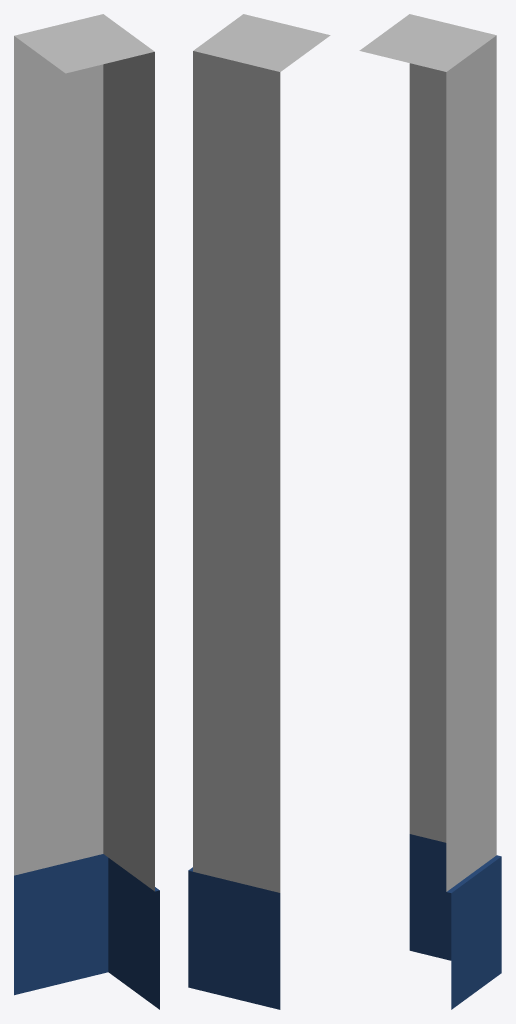
File: Parede_Quina.fbx
The picture shows the model from 3 angles, left to right: view 1: azimuth 30°, elevation 25°; view 2: azimuth 150°, elevation 25°; view 3: azimuth 330°, elevation 25°; orthographic projection. The views are drawn at different scales.
Parts seen in each view (by area): view 1: Cubo.370; view 2: Cubo.370; view 3: Cubo.370.
Part boxes in pixels (bbox=[...]): Cubo.370: bbox=[14, 14, 159, 1009]; Cubo.370: bbox=[188, 14, 330, 1009]; Cubo.370: bbox=[359, 14, 501, 1009].
Size of the model in its own units: 51.43 by 500 by 48.7.
